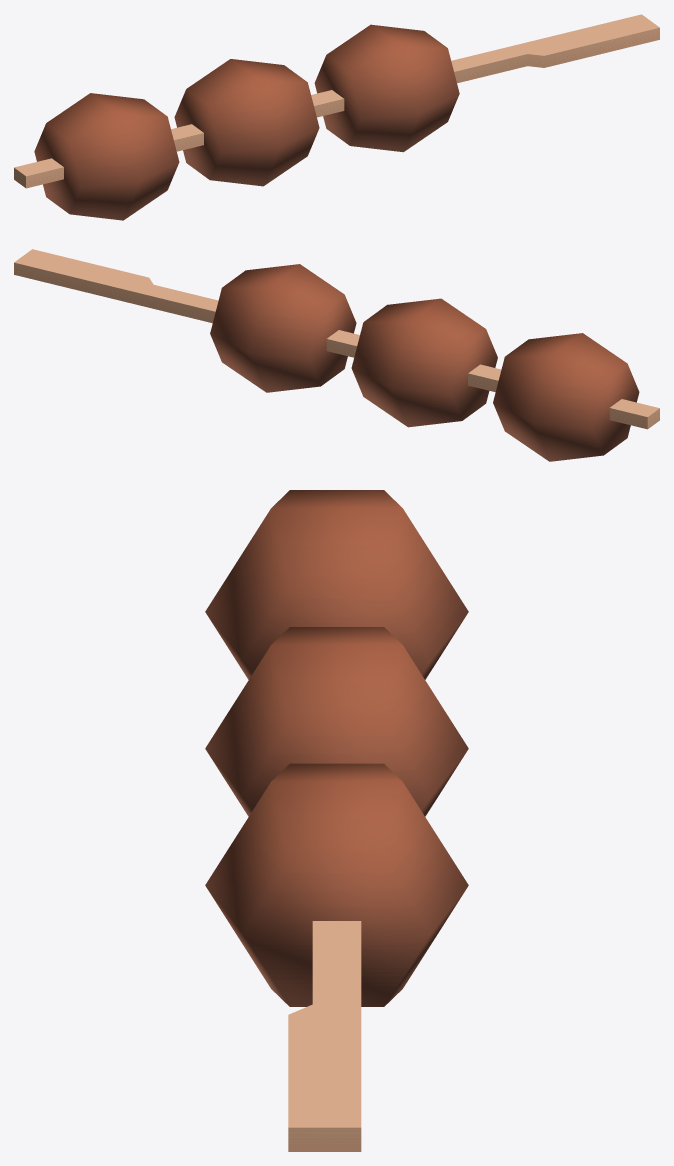
The model's file is skewer.glb.
The picture shows the model from 3 angles, top to bottom: view 1: azimuth 30°, elevation 25°; view 2: azimuth 150°, elevation 25°; view 3: azimuth 270°, elevation 25°; orthographic projection. The views are drawn at different scales.
Parts seen in each view (by area): view 1: meat (×3), skewer; view 2: meat (×3), skewer; view 3: meat (×3), skewer.
Boxes of the visible parts, x1=… form: meat (×3): x1=34, y1=24, x2=459, y2=220; skewer: x1=14, y1=14, x2=659, y2=188; meat (×3): x1=210, y1=264, x2=639, y2=461; skewer: x1=14, y1=249, x2=659, y2=429; meat (×3): x1=205, y1=490, x2=468, y2=1006; skewer: x1=288, y1=921, x2=361, y2=1151.
Bounding box in the file's own units: 0.5967 × 0.094 × 0.1085.
Materials: 1 (1 with a texture image).
